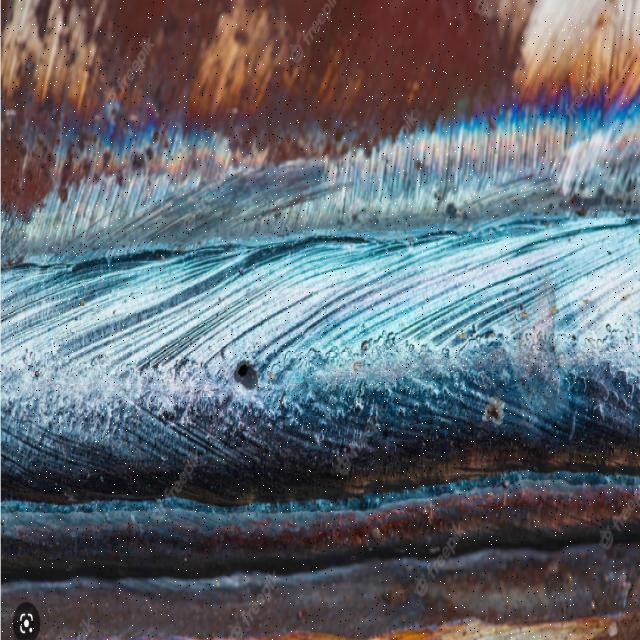Porosity: (226, 355, 265, 398)
